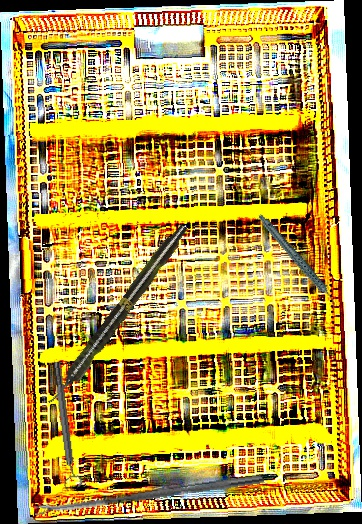Fixation Ring: (47, 360, 84, 490)
Handpiece: (43, 220, 192, 410), (257, 201, 339, 322)
Surgical Spoon: (33, 472, 265, 516)
